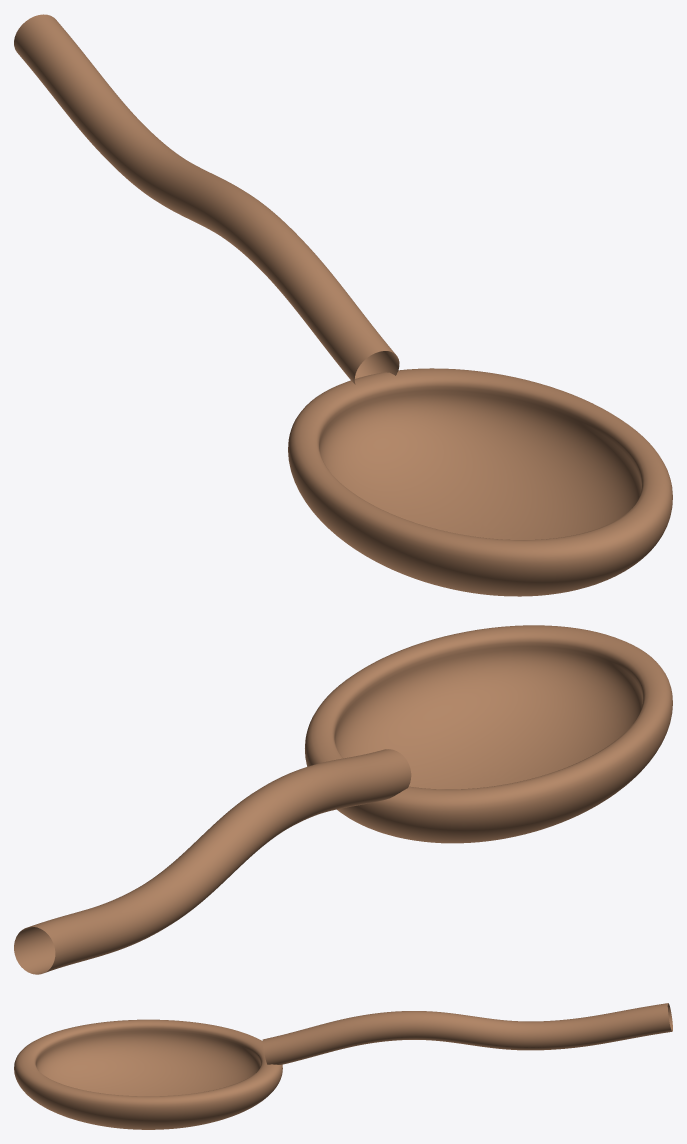
The model's file is cuchara_b.glb.
The picture shows the model from 3 angles, top to bottom: view 1: azimuth 30°, elevation 25°; view 2: azimuth 150°, elevation 25°; view 3: azimuth 270°, elevation 25°; orthographic projection. The views are drawn at different scales.
Visible parts, largest first — view 1: cazo_cerezo, mango_cerezo; view 2: cazo_cerezo, mango_cerezo; view 3: cazo_cerezo, mango_cerezo.
Boxes of the visible parts, <box> form: cazo_cerezo: <box>288,368,672,596</box>; mango_cerezo: <box>14,14,399,384</box>; cazo_cerezo: <box>305,625,672,843</box>; mango_cerezo: <box>14,749,411,974</box>; cazo_cerezo: <box>14,1019,282,1129</box>; mango_cerezo: <box>262,1003,672,1064</box>.
Bounding box in the file's own units: 0.1471 × 0.0923 × 0.4865.
